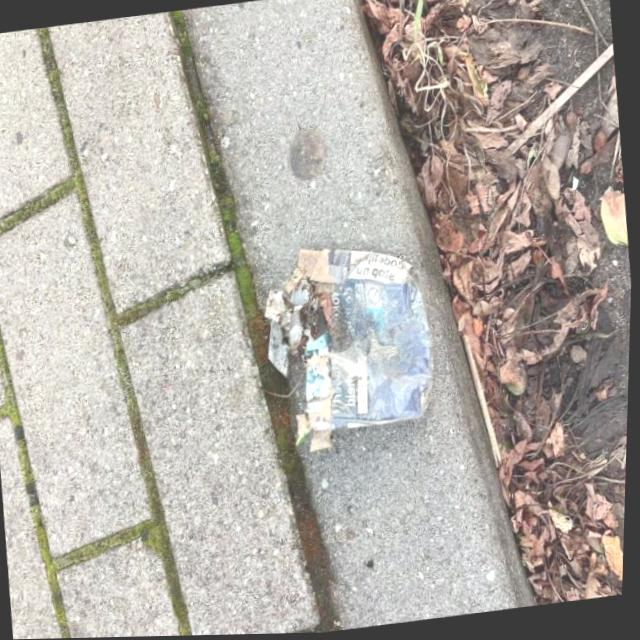Paper: (254, 228, 450, 458)
